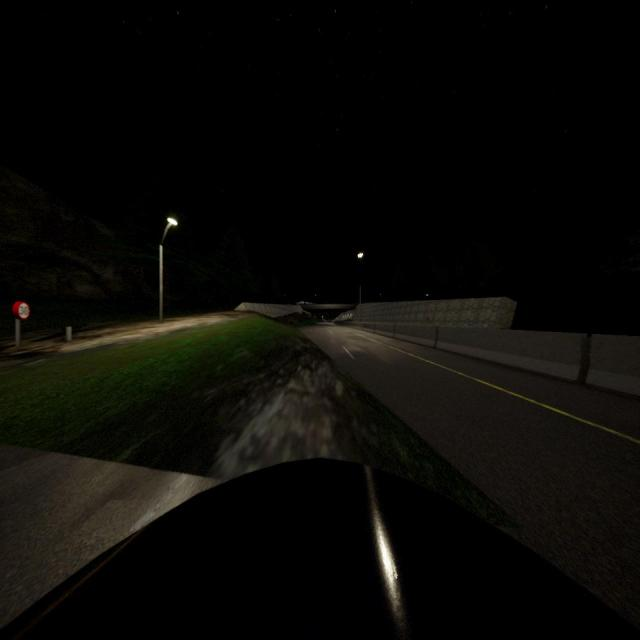Traffic_Signs: (11, 301, 30, 320)
Vehicle: (0, 460, 640, 640)
